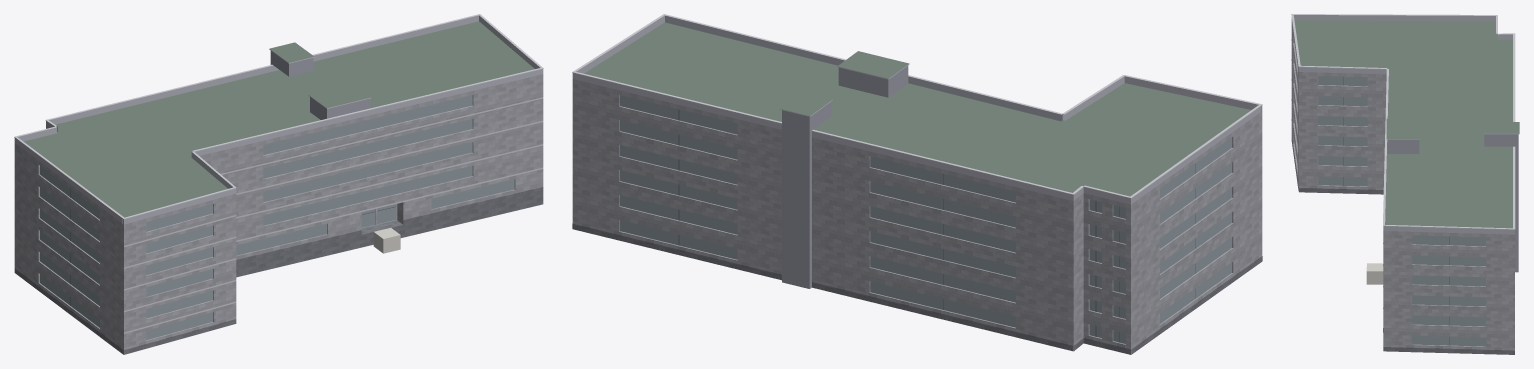
3 views of the same model, side by side, from view 1: azimuth 30°, elevation 25°; view 2: azimuth 150°, elevation 25°; view 3: azimuth 270°, elevation 25° (orthographic). The views are drawn at different scales.
Parts seen in each view (by area): view 1: b102__wall, b102__roof, b102__glass, b102__parapet, b102__trim, b102__base, b102__wall2, b102__entranceStair; view 2: b102__wall, b102__roof, b102__glass, b102__parapet, b102__wall2, b102__base, b102__trim; view 3: b102__roof, b102__wall, b102__glass, b102__parapet, b102__trim, b102__wall2, b102__base, b102__entranceStair.
Boxes of the visible parts, x1,y1,x2,y2 form: b102__wall: (14, 74, 543, 354); b102__roof: (23, 21, 539, 277); b102__glass: (40, 95, 514, 340); b102__parapet: (14, 15, 543, 224); b102__trim: (14, 14, 543, 333); b102__base: (14, 187, 543, 354); b102__wall2: (270, 51, 370, 119); b102__entranceStair: (373, 228, 400, 253); b102__wall: (572, 79, 1262, 354); b102__roof: (584, 22, 1251, 196); b102__glass: (620, 95, 1231, 343); b102__parapet: (572, 15, 1262, 204); b102__wall2: (782, 65, 908, 288); b102__base: (572, 223, 1262, 354); b102__trim: (572, 14, 1262, 198); b102__roof: (1294, 20, 1519, 228); b102__wall: (1291, 20, 1514, 350); b102__glass: (1318, 76, 1485, 346); b102__parapet: (1291, 15, 1514, 234); b102__trim: (1291, 14, 1519, 308); b102__wall2: (1387, 134, 1518, 272); b102__base: (1291, 138, 1514, 354); b102__entranceStair: (1366, 263, 1383, 284).
Size of the model in its own units: 82.98 by 25.29 by 37.16.
Materials: 10 (2 with a texture image).
